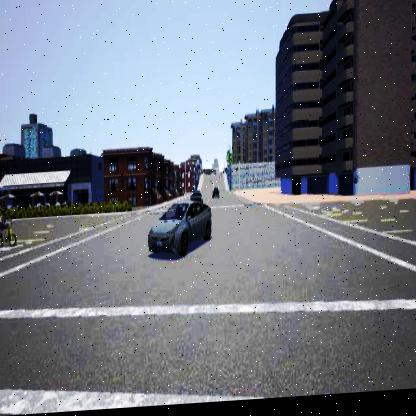bike: (0, 208, 20, 249)
vehicle: (148, 192, 210, 260), (210, 187, 221, 206)
